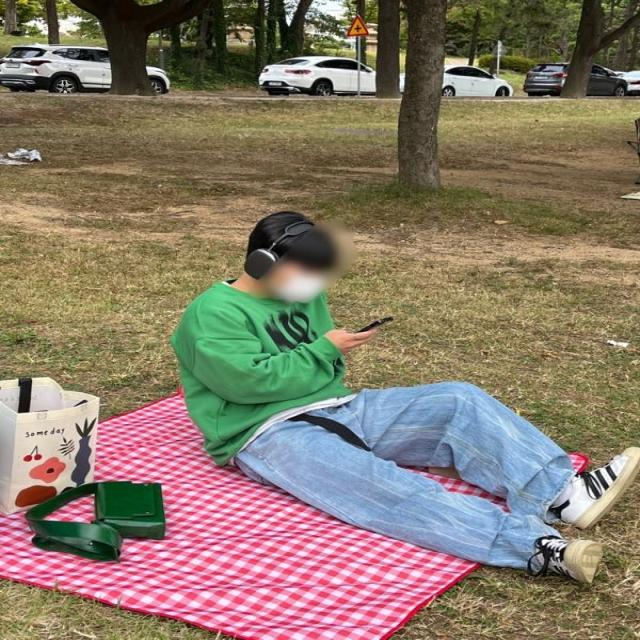denimpants: (232, 384, 576, 616)
mtm: (171, 279, 358, 463)
